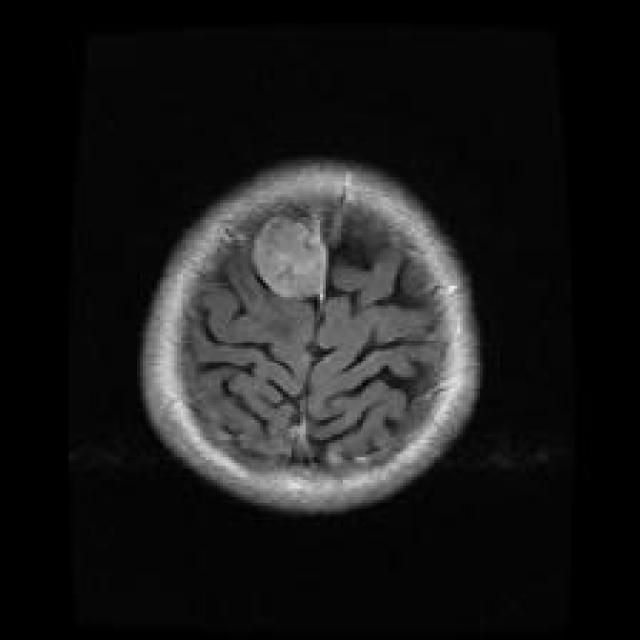meningioma_tumor: (246, 196, 334, 312)
